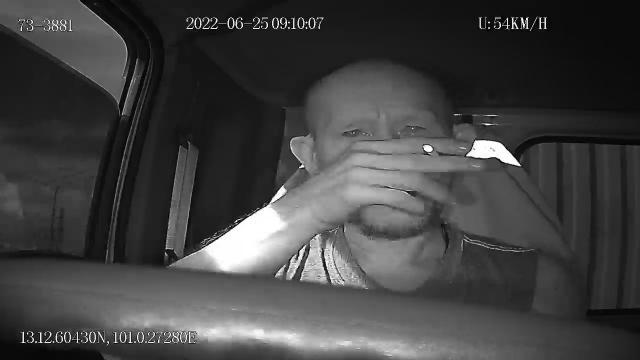SafeDriving: (392, 115, 436, 139)
Smoking: (422, 142, 440, 156)
